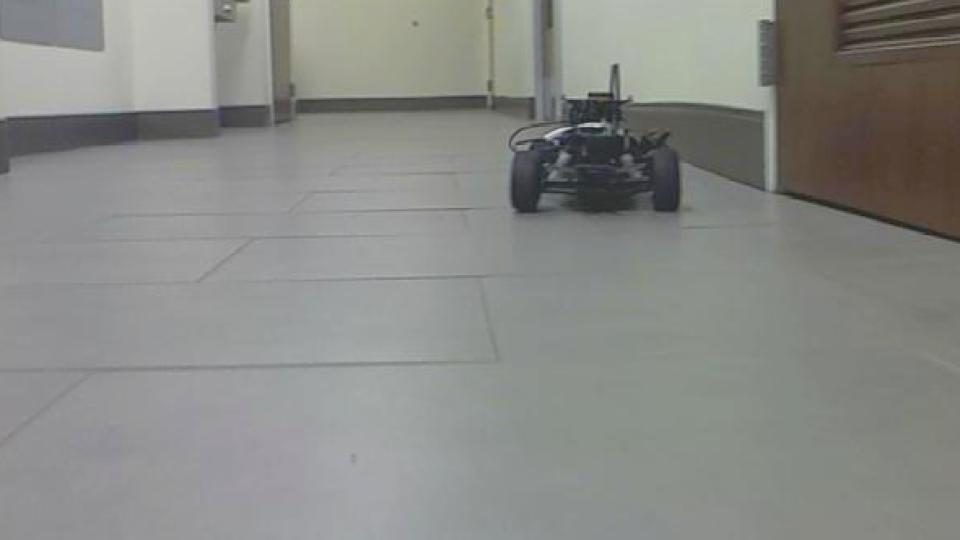car: (503, 61, 685, 218)
